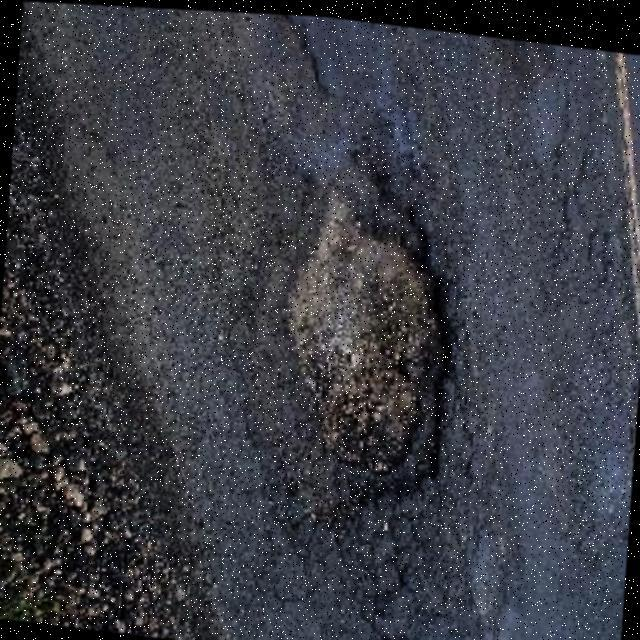pothole: (262, 170, 476, 536)
